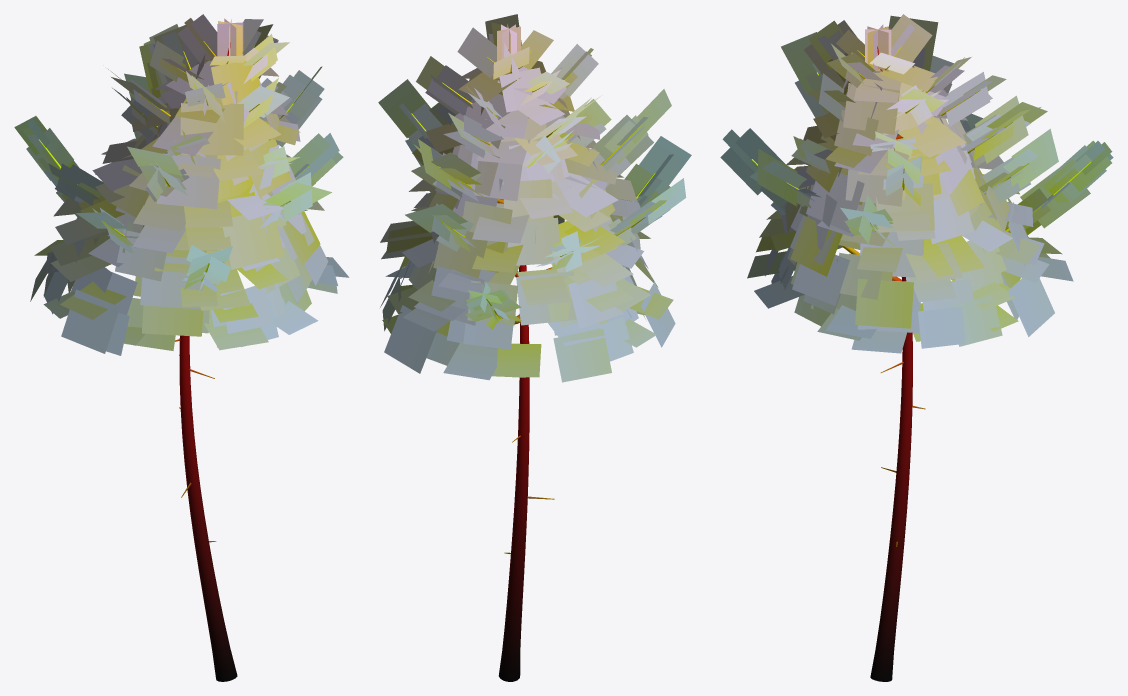
The model's file is akamatsu_1.glb.
3 views of the same model, side by side, from view 1: azimuth 30°, elevation 25°; view 2: azimuth 150°, elevation 25°; view 3: azimuth 270°, elevation 25° (orthographic).
Parts seen in each view (by area): view 1: akamatsu_1_lod0; view 2: akamatsu_1_lod0; view 3: akamatsu_1_lod0.
Boxes of the visible parts, x1,y1,x2,y2 form: akamatsu_1_lod0: [14, 14, 349, 681]; akamatsu_1_lod0: [378, 14, 691, 681]; akamatsu_1_lod0: [720, 14, 1113, 681].
Size of what is drawn, in the model's own units: 9.1 by 20.31 by 11.1.
